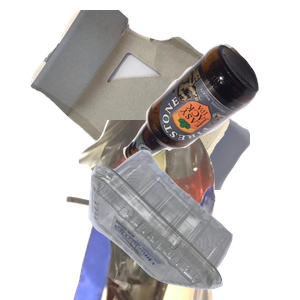glass: (120, 41, 300, 196)
paper: (28, 10, 268, 190)
plastic: (86, 147, 300, 300)
trash: (63, 120, 300, 300)
